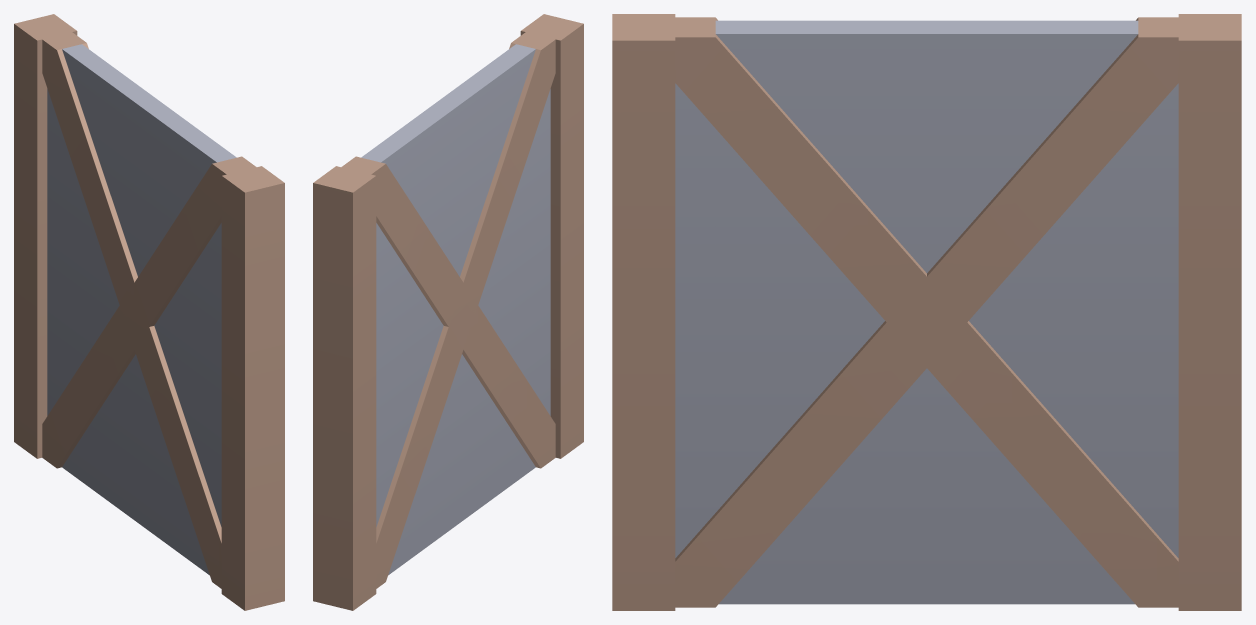
The model's file is wall-detail-cross.glb.
3 views of the same model, side by side, from view 1: azimuth 30°, elevation 25°; view 2: azimuth 150°, elevation 25°; view 3: azimuth 270°, elevation 25° (orthographic). The views are drawn at different scales.
Parts seen in each view (by area): view 1: wall-detail-cross; view 2: wall-detail-cross; view 3: wall-detail-cross.
Part boxes in pixels (bbox=[...]): wall-detail-cross: bbox=[14, 14, 284, 610]; wall-detail-cross: bbox=[313, 14, 583, 610]; wall-detail-cross: bbox=[612, 14, 1241, 610].
Bounding box in the file's own units: 0.1 × 1 × 1.
